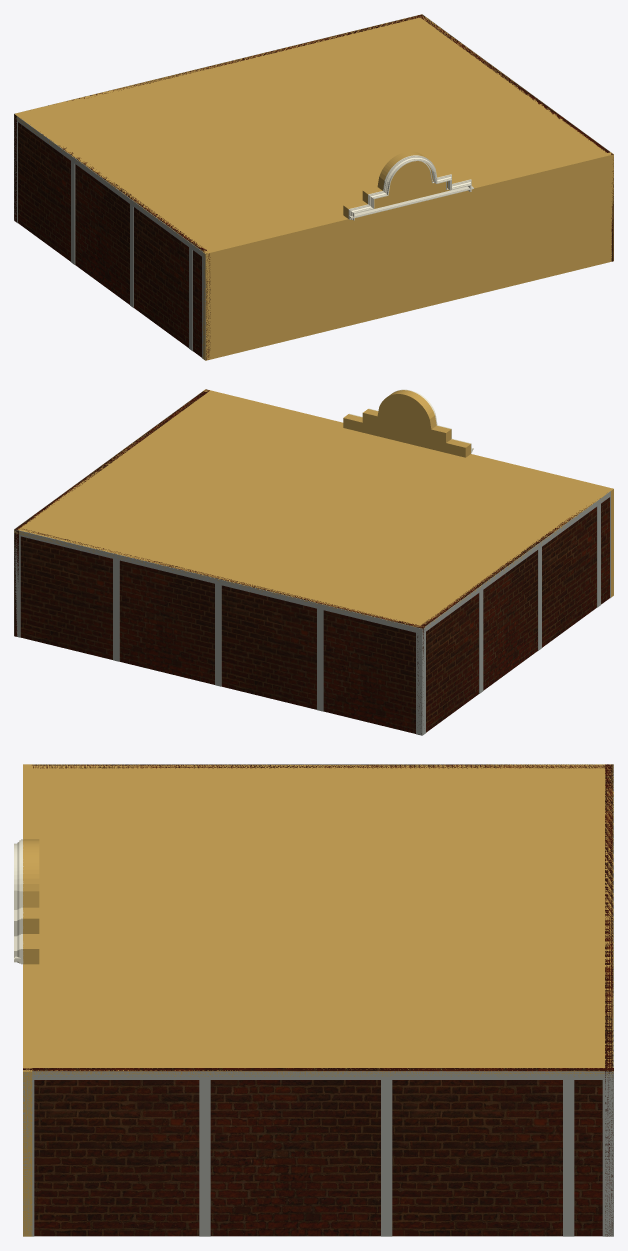
Rendered from building.glb.
3 views of the same model, one above another, from view 1: azimuth 30°, elevation 25°; view 2: azimuth 150°, elevation 25°; view 3: azimuth 270°, elevation 25° (orthographic). The views are drawn at different scales.
Visible parts, largest first — view 1: roof/house:0/roof_slab#0001, house:0/edge0/z0/house:0/edge0/z0/wall_0_0, house:0/edge3/z0/house:0/edge3/z0/wall_0_0, crown/coronamiento/crown_body#0001, house:0/edge2/z0/house:0/edge2/z0/wall_0_0, house:0/edge3/z0/house:0/edge3/z0/beam_0_0, crown/coronamiento/crown_moulding#0001, house:0/edge1/z0/house:0/edge1/z0/wall_0_0, crown/coronamiento/crown_base_cornice#0001, house:0/edge3/z0/house:0/edge3/z0/column_2_0; view 2: roof/house:0/roof_slab#0001, house:0/edge2/z0/house:0/edge2/z0/wall_0_0, house:0/edge3/z0/house:0/edge3/z0/wall_0_0, crown/coronamiento/crown_body#0001, house:0/edge2/z0/house:0/edge2/z0/beam_0_0, house:0/edge1/z0/house:0/edge1/z0/wall_0_0, house:0/edge0/z0/house:0/edge0/z0/wall_0_0, house:0/edge3/z0/house:0/edge3/z0/beam_0_0, house:0/edge2/z0/house:0/edge2/z0/column_4_0, house:0/edge2/z0/house:0/edge2/z0/column_2_0, house:0/edge2/z0/house:0/edge2/z0/column_1_0, house:0/edge2/z0/house:0/edge2/z0/column_3_0 (+2 smaller); view 3: roof/house:0/roof_slab#0001, house:0/edge1/z0/house:0/edge1/z0/wall_0_0, house:0/edge1/z0/house:0/edge1/z0/beam_0_0, house:0/edge0/z0/house:0/edge0/z0/wall_0_0, house:0/edge2/z0/house:0/edge2/z0/wall_0_0, house:0/edge3/z0/house:0/edge3/z0/wall_0_0, crown/coronamiento/crown_body#0001, house:0/edge1/z0/house:0/edge1/z0/column_1_0, house:0/edge1/z0/house:0/edge1/z0/column_2_0, house:0/edge1/z0/house:0/edge1/z0/column_3_0, house:0/edge1/z0/house:0/edge1/z0/column_4_0, house:0/edge1/z0/house:0/edge1/z0/column_0_0 (+1 smaller).
Boxes of the visible parts, bbox=[...] form: roof/house:0/roof_slab#0001: bbox=[14, 14, 613, 255]; house:0/edge0/z0/house:0/edge0/z0/wall_0_0: bbox=[202, 152, 613, 360]; house:0/edge3/z0/house:0/edge3/z0/wall_0_0: bbox=[18, 122, 210, 359]; crown/coronamiento/crown_body#0001: bbox=[343, 151, 469, 217]; house:0/edge2/z0/house:0/edge2/z0/wall_0_0: bbox=[14, 14, 423, 222]; house:0/edge3/z0/house:0/edge3/z0/beam_0_0: bbox=[14, 113, 205, 258]; crown/coronamiento/crown_moulding#0001: bbox=[348, 155, 471, 220]; house:0/edge1/z0/house:0/edge1/z0/wall_0_0: bbox=[418, 14, 613, 261]; crown/coronamiento/crown_base_cornice#0001: bbox=[348, 186, 473, 219]; house:0/edge3/z0/house:0/edge3/z0/column_2_0: bbox=[71, 161, 75, 264]; roof/house:0/roof_slab#0001: bbox=[14, 391, 612, 627]; house:0/edge2/z0/house:0/edge2/z0/wall_0_0: bbox=[20, 529, 424, 733]; house:0/edge3/z0/house:0/edge3/z0/wall_0_0: bbox=[417, 497, 609, 734]; crown/coronamiento/crown_body#0001: bbox=[343, 390, 470, 457]; house:0/edge2/z0/house:0/edge2/z0/beam_0_0: bbox=[14, 529, 422, 633]; house:0/edge1/z0/house:0/edge1/z0/wall_0_0: bbox=[14, 389, 209, 636]; house:0/edge0/z0/house:0/edge0/z0/wall_0_0: bbox=[203, 389, 613, 597]; house:0/edge3/z0/house:0/edge3/z0/beam_0_0: bbox=[422, 491, 610, 633]; house:0/edge2/z0/house:0/edge2/z0/column_4_0: bbox=[317, 608, 323, 711]; house:0/edge2/z0/house:0/edge2/z0/column_2_0: bbox=[113, 559, 119, 661]; house:0/edge2/z0/house:0/edge2/z0/column_1_0: bbox=[416, 633, 422, 735]; house:0/edge2/z0/house:0/edge2/z0/column_3_0: bbox=[215, 584, 221, 686]; roof/house:0/roof_slab#0001: bbox=[23, 764, 613, 1077]; house:0/edge1/z0/house:0/edge1/z0/wall_0_0: bbox=[23, 1068, 613, 1236]; house:0/edge1/z0/house:0/edge1/z0/beam_0_0: bbox=[23, 1071, 613, 1079]; house:0/edge0/z0/house:0/edge0/z0/wall_0_0: bbox=[23, 764, 32, 1236]; house:0/edge2/z0/house:0/edge2/z0/wall_0_0: bbox=[605, 764, 613, 1236]; house:0/edge3/z0/house:0/edge3/z0/wall_0_0: bbox=[32, 764, 604, 768]; crown/coronamiento/crown_body#0001: bbox=[25, 839, 39, 964]; house:0/edge1/z0/house:0/edge1/z0/column_1_0: bbox=[602, 1080, 613, 1236]; house:0/edge1/z0/house:0/edge1/z0/column_2_0: bbox=[199, 1080, 210, 1236]; house:0/edge1/z0/house:0/edge1/z0/column_3_0: bbox=[381, 1080, 392, 1236]; house:0/edge1/z0/house:0/edge1/z0/column_4_0: bbox=[563, 1080, 574, 1236]; house:0/edge1/z0/house:0/edge1/z0/column_0_0: bbox=[23, 1080, 34, 1236].
Size of the model in its own units: 16 by 5.8 by 13.2.
Materials: 4 (1 with a texture image).
